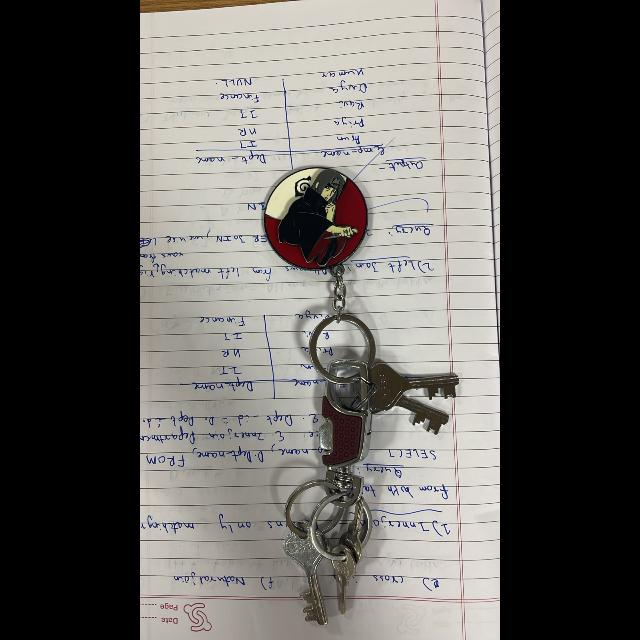keys: (248, 144, 464, 630)
